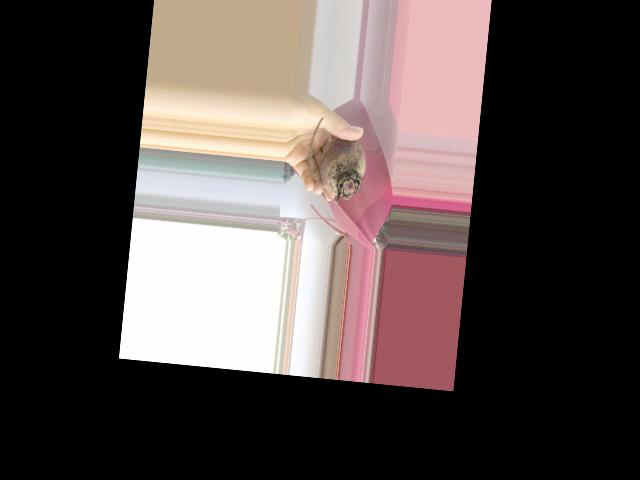beet: (304, 116, 369, 206)
